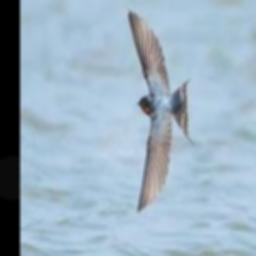Swallow: (129, 10, 197, 212)
